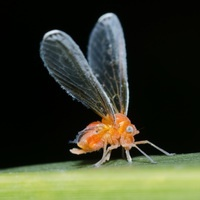insect: (40, 13, 173, 166)
